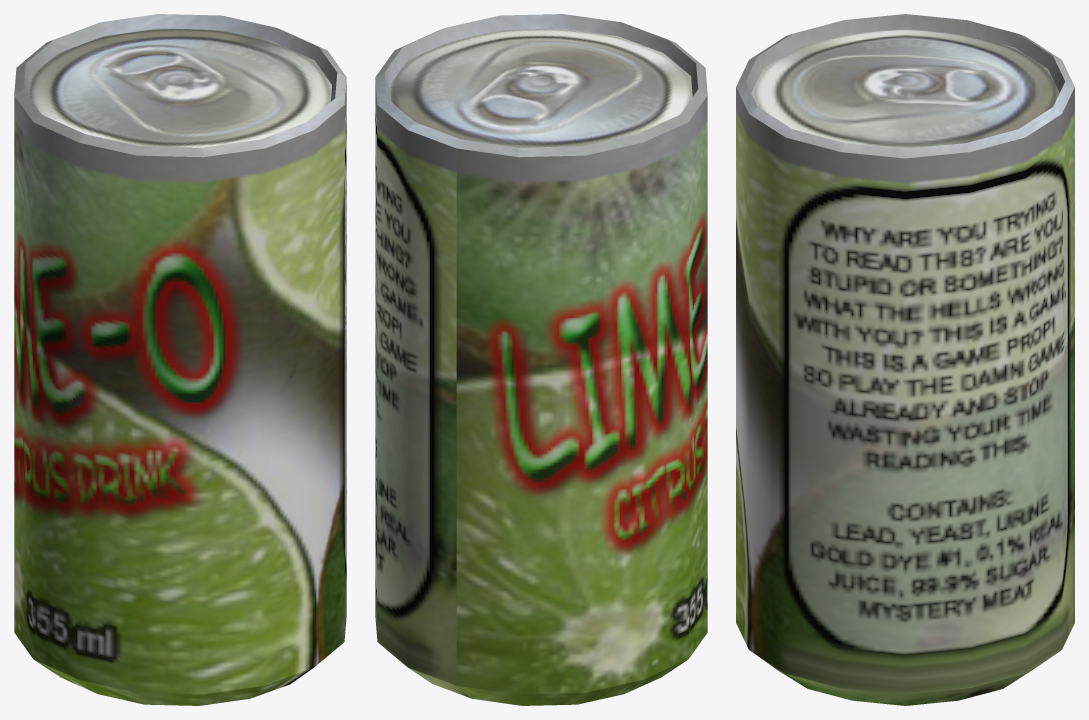
File: popcan_highres.fbx
3 renders of one model, left to right at view 1: azimuth 30°, elevation 25°; view 2: azimuth 150°, elevation 25°; view 3: azimuth 270°, elevation 25°, orthographic.
Parts seen in each view (by area): view 1: popcan; view 2: popcan; view 3: popcan.
Part boxes in pixels (x1,y1,x2,y2): popcan: [14, 14, 346, 705]; popcan: [375, 14, 707, 705]; popcan: [736, 14, 1074, 705].
Bounding box in the file's own units: 0.0801 × 0.1481 × 0.0801.
